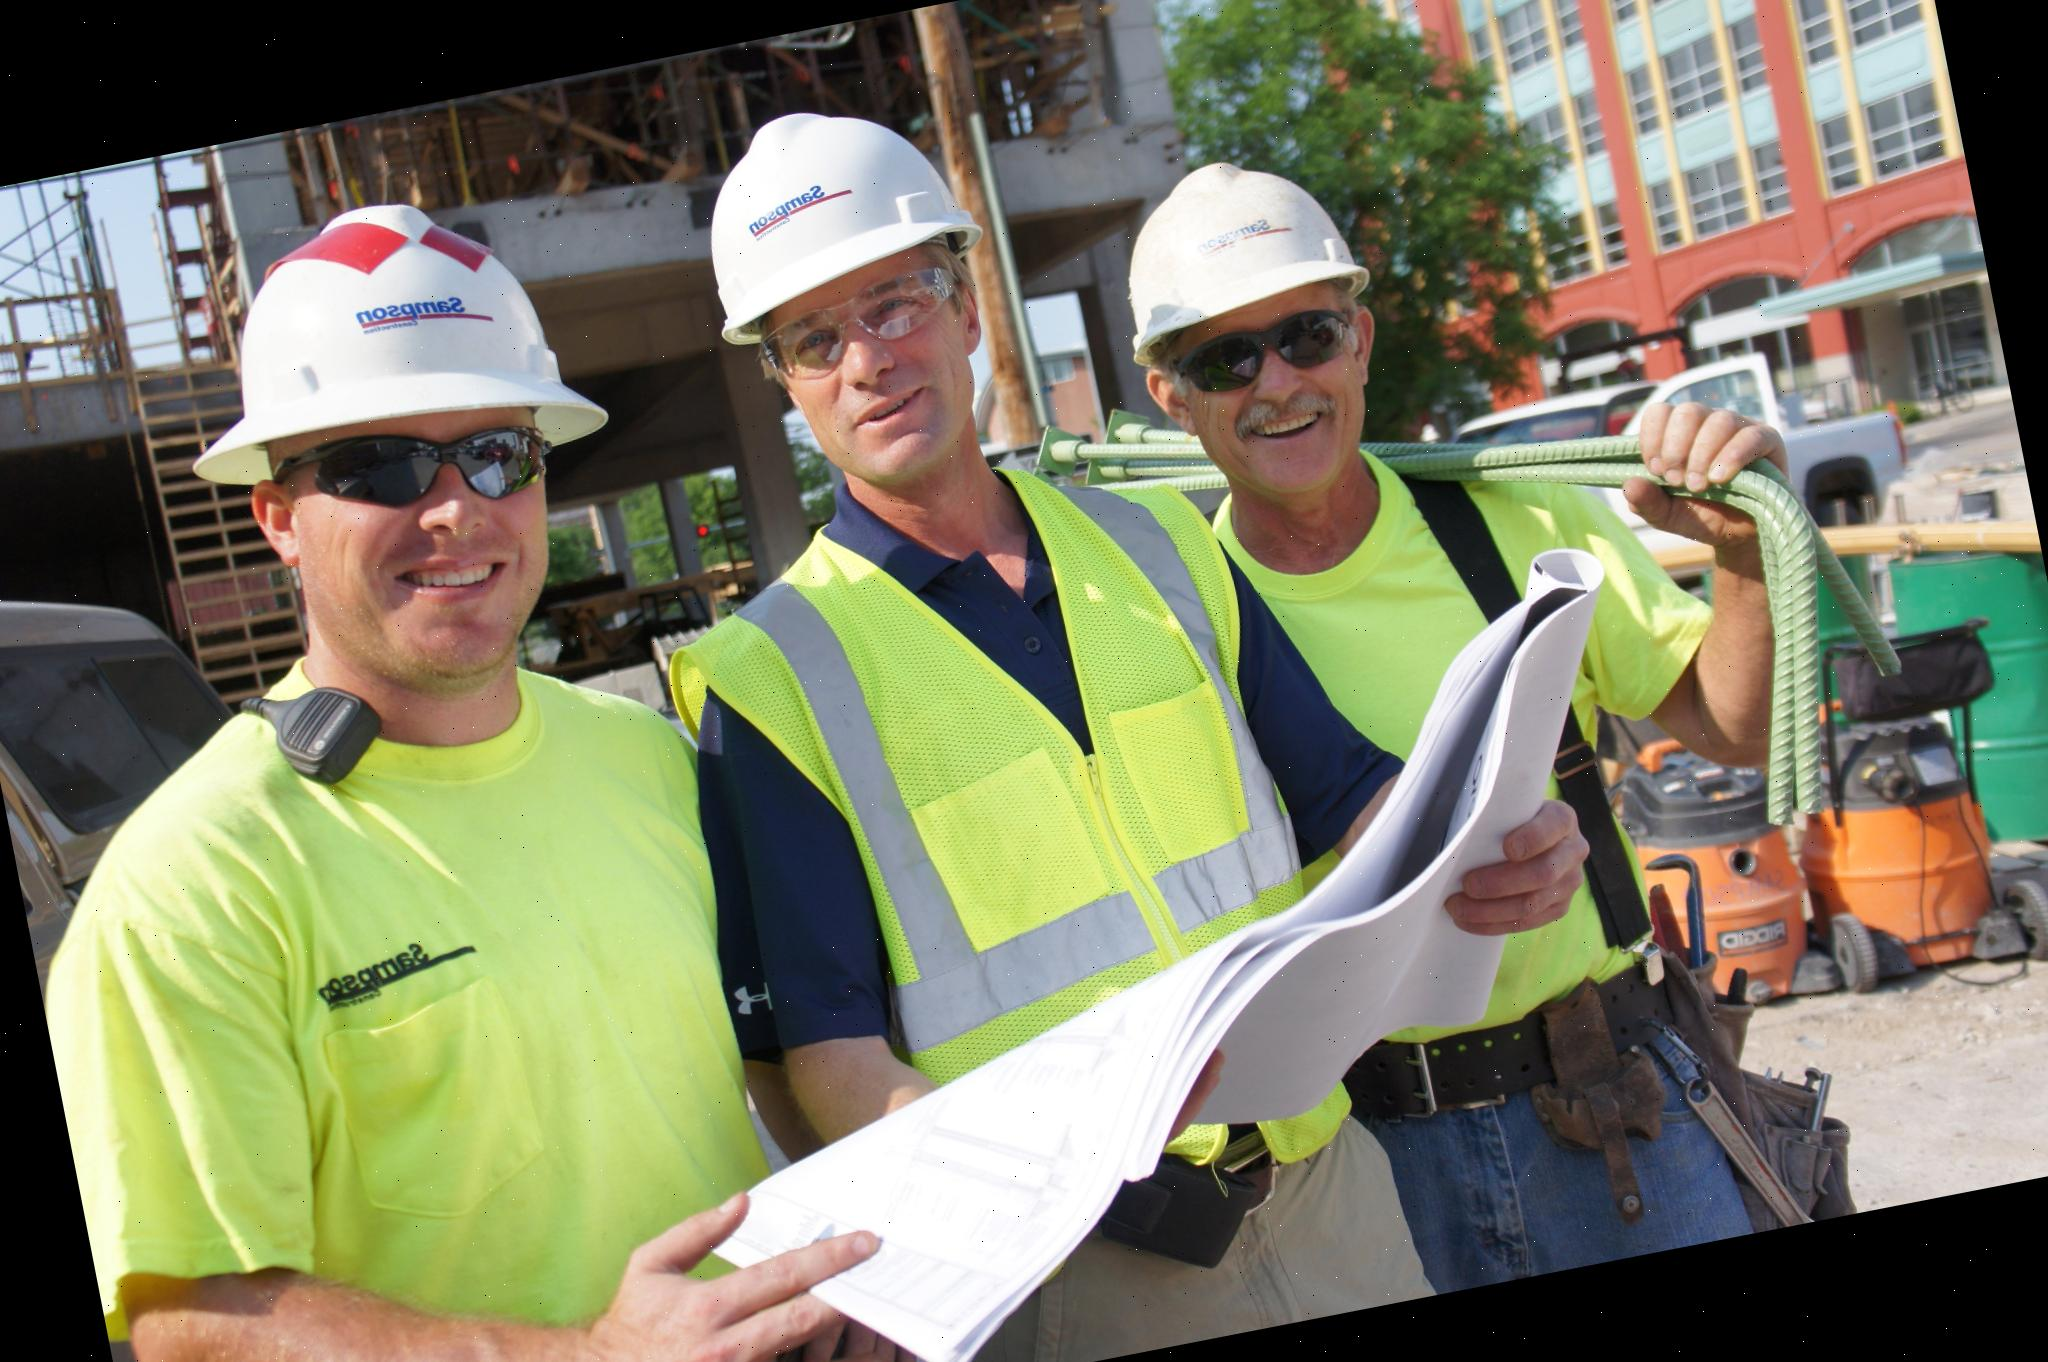helmet: (147, 167, 615, 509), (682, 82, 995, 348), (1095, 132, 1386, 379)
no_wear: (0, 635, 820, 1362), (1188, 450, 1709, 1093)
wear: (700, 470, 1343, 1231)
